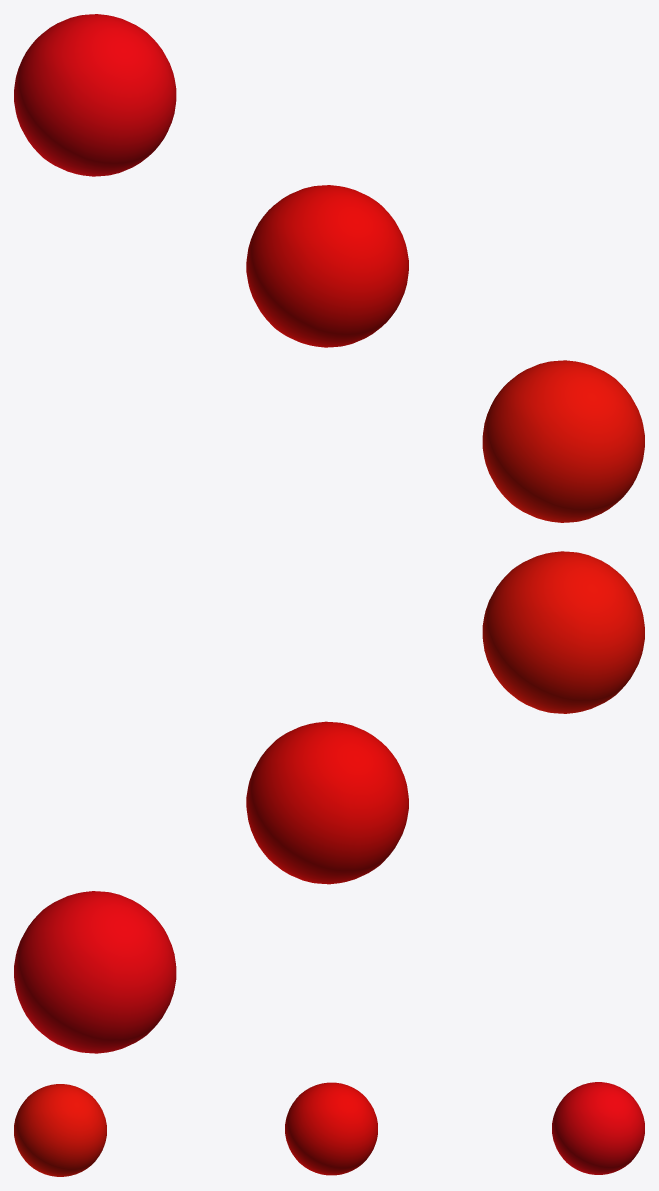
File: Caso(+,+,+).glb
3 renders of one model, top to bottom at view 1: azimuth 30°, elevation 25°; view 2: azimuth 150°, elevation 25°; view 3: azimuth 270°, elevation 25°, orthographic. The views are drawn at different scales.
Visible parts, largest first — view 1: Carga 2, Carga 3, Carga 1; view 2: Carga 2, Carga 3, Carga 1; view 3: Carga 2, Carga 1, Carga 3.
Boxes of the visible parts, x1,y1,x2,y2 form: Carga 2: (246, 185, 408, 347); Carga 3: (14, 14, 176, 176); Carga 1: (482, 360, 644, 522); Carga 2: (246, 721, 408, 884); Carga 3: (14, 891, 176, 1053); Carga 1: (482, 551, 644, 713); Carga 2: (285, 1082, 377, 1175); Carga 1: (14, 1084, 106, 1176); Carga 3: (552, 1082, 644, 1174).
Size of the model in its own units: 3.44 by 3.52 by 23.37.
